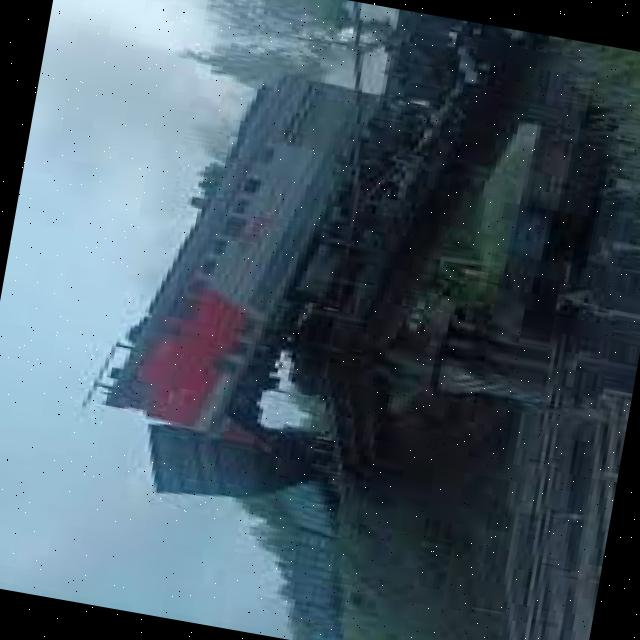bridge collapse: (58, 55, 517, 582)
